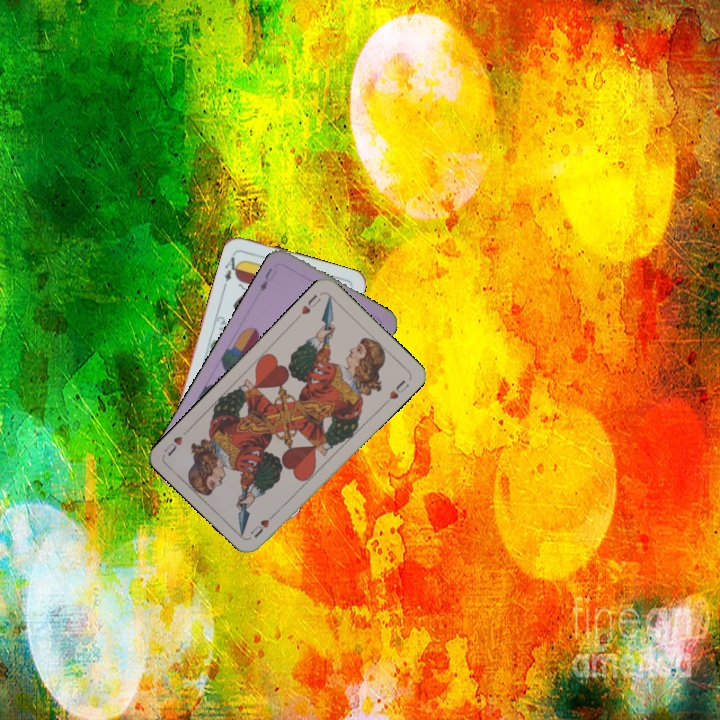EA: (220, 249, 243, 289)
EU: (256, 264, 279, 294)
HU: (246, 508, 279, 540), (297, 290, 323, 317)
